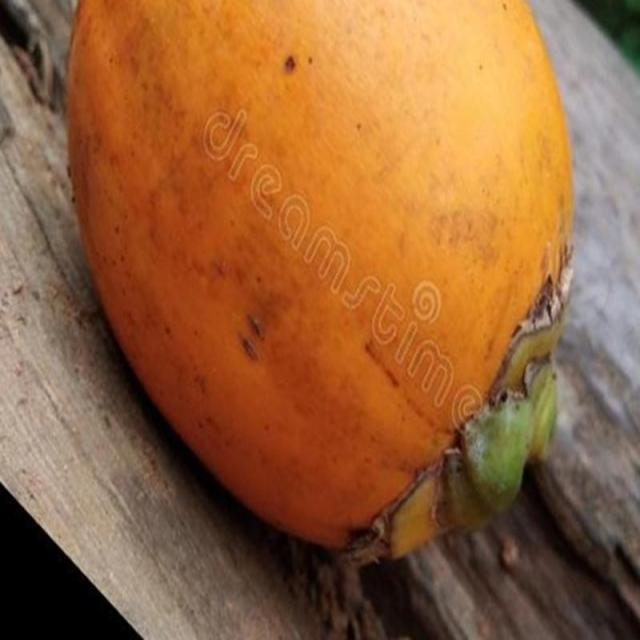good: (66, 0, 598, 562)
